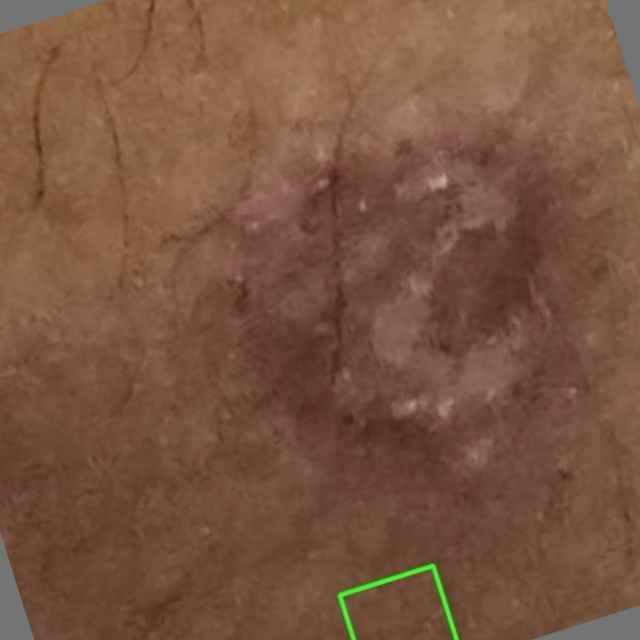Tinea Corporis: (339, 565, 456, 639)
